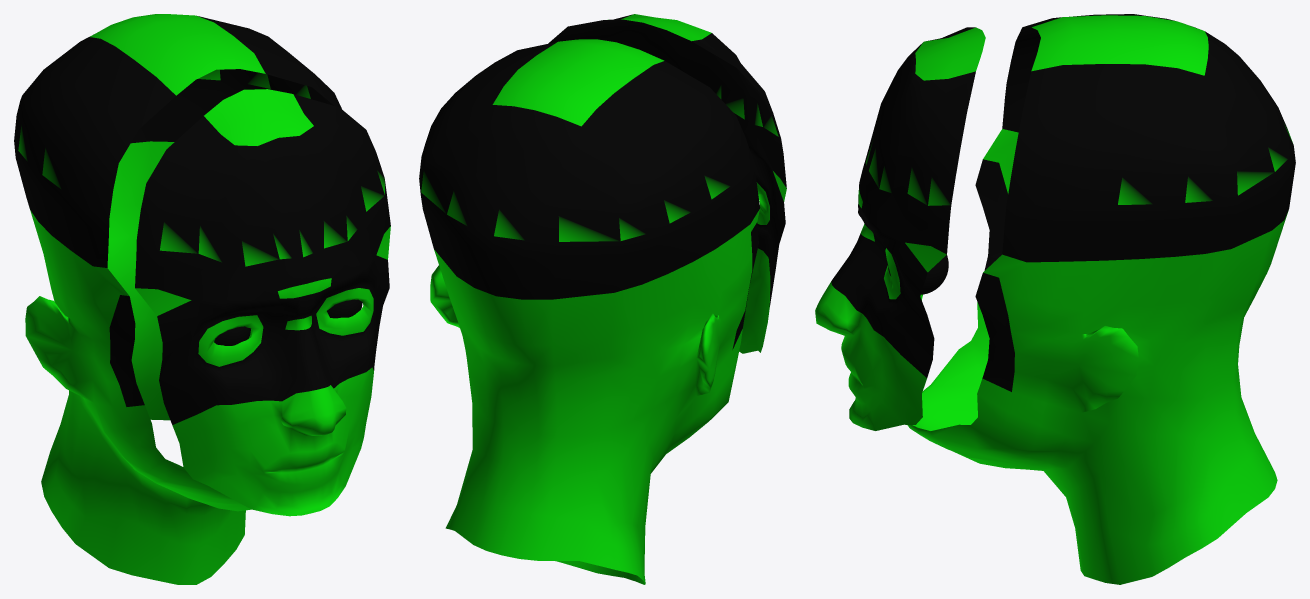
3 renders of one model, left to right at view 1: azimuth 30°, elevation 25°; view 2: azimuth 150°, elevation 25°; view 3: azimuth 270°, elevation 25°, orthographic. The views are drawn at different scales.
Visible parts, largest first — view 1: pSphere3; view 2: pSphere3; view 3: pSphere3.
Part boxes in pixels (x1,y1,x2,y2): pSphere3: (14, 14, 390, 584); pSphere3: (419, 14, 786, 584); pSphere3: (815, 14, 1295, 584).
Size of the model in its own units: 0.3331 by 0.5981 by 0.4816.
